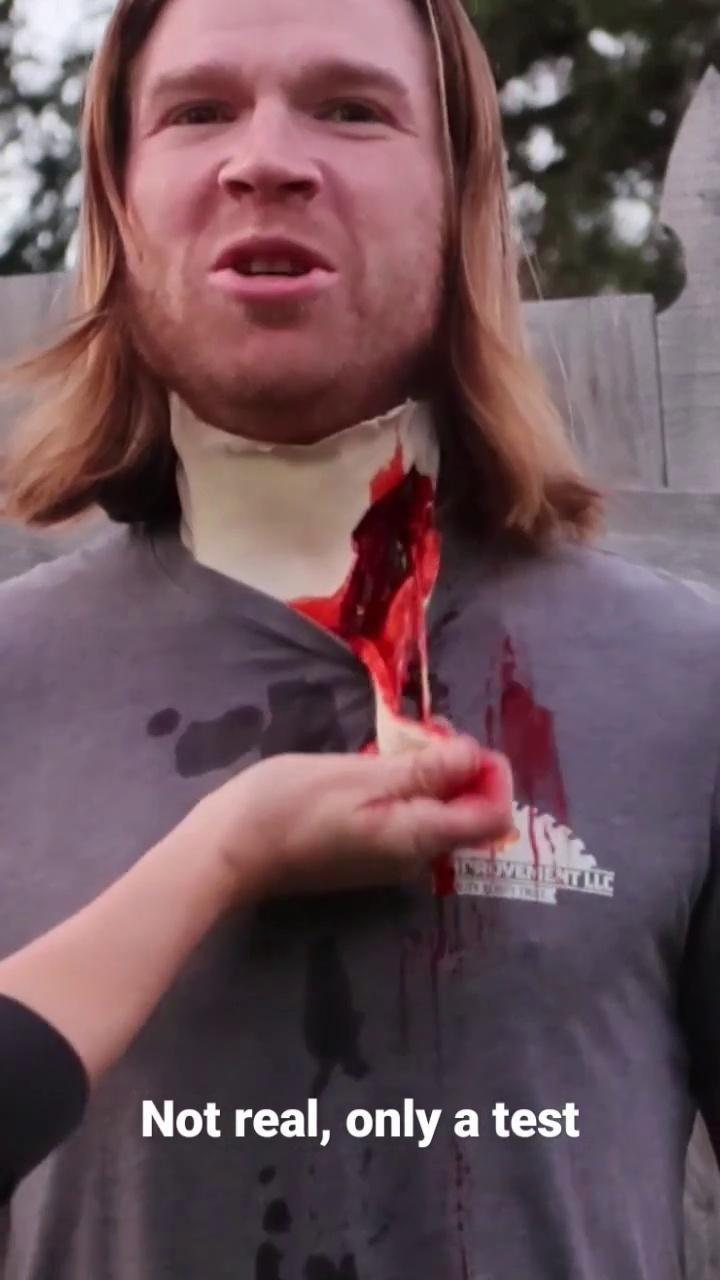Fire: (290, 466, 440, 728), (485, 637, 567, 825), (430, 855, 454, 1082), (453, 1149, 476, 1280)
